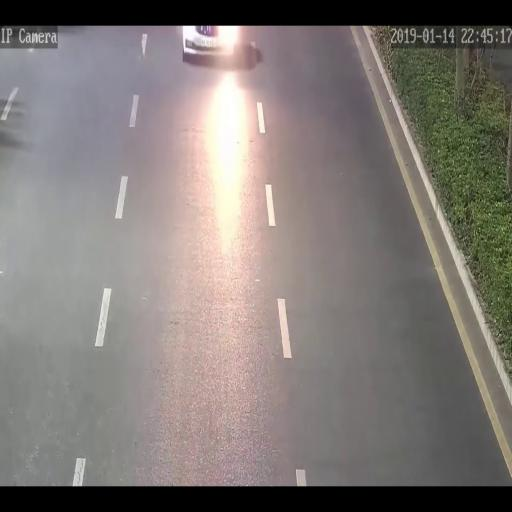License plate: (201, 40, 216, 48)
Vehicle: (182, 26, 240, 62)
